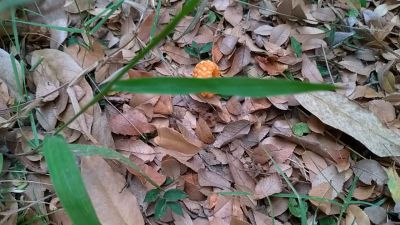eggs: (191, 57, 224, 99)
